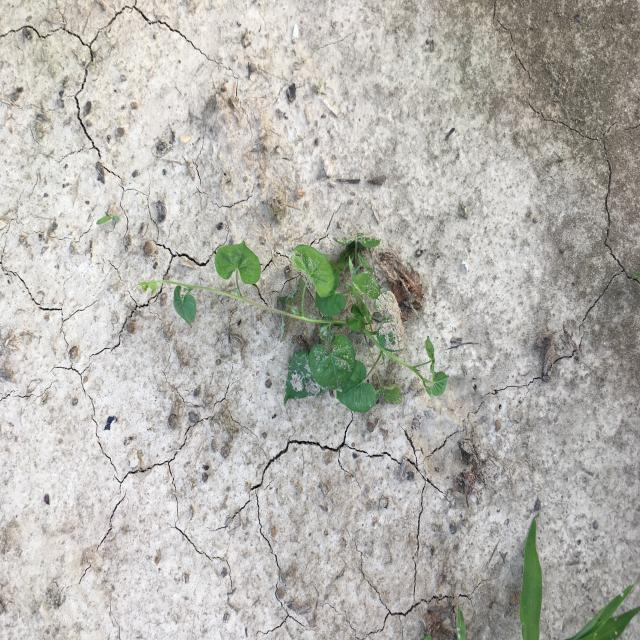MorningGlory: (133, 231, 450, 415)
